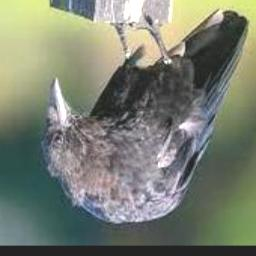Crow: (44, 7, 250, 224)
